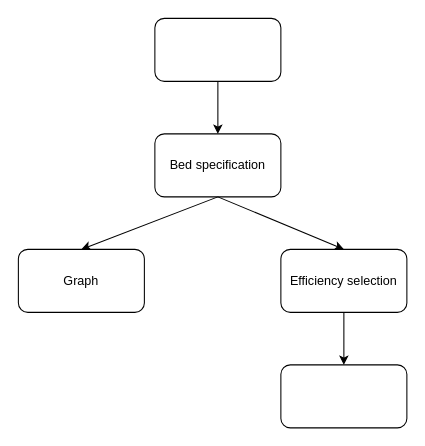
This 425x446 diagram has some shape labels left out. The shapes that lost their labels are listed below. From the top down, each one's centre as x and y in pixels, then its label:
the point at 217,49: Adsorbant specification
the point at 343,396: Optimal condtions
